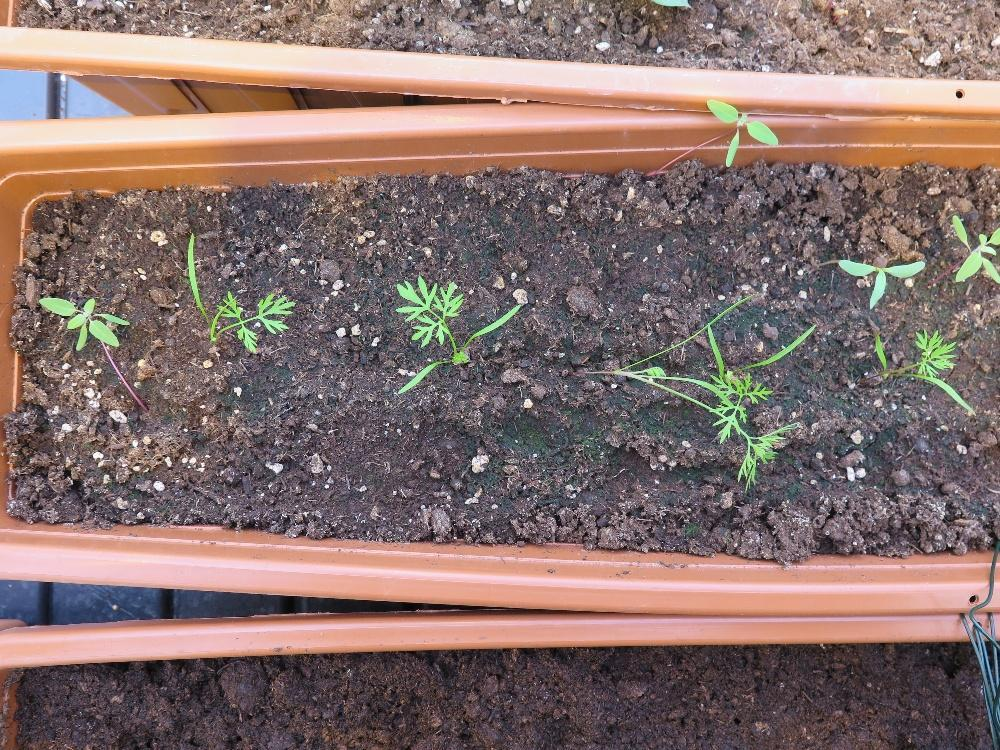crop: (393, 275, 522, 394), (186, 230, 298, 354), (870, 323, 977, 416)
weed: (705, 97, 779, 168), (37, 295, 131, 349), (836, 258, 926, 311)
